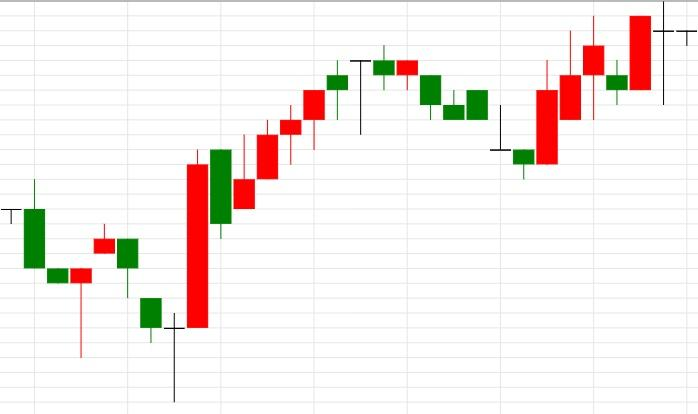hammer_rise: (0, 178, 92, 358)
morning_star_rise: (93, 149, 210, 402)
